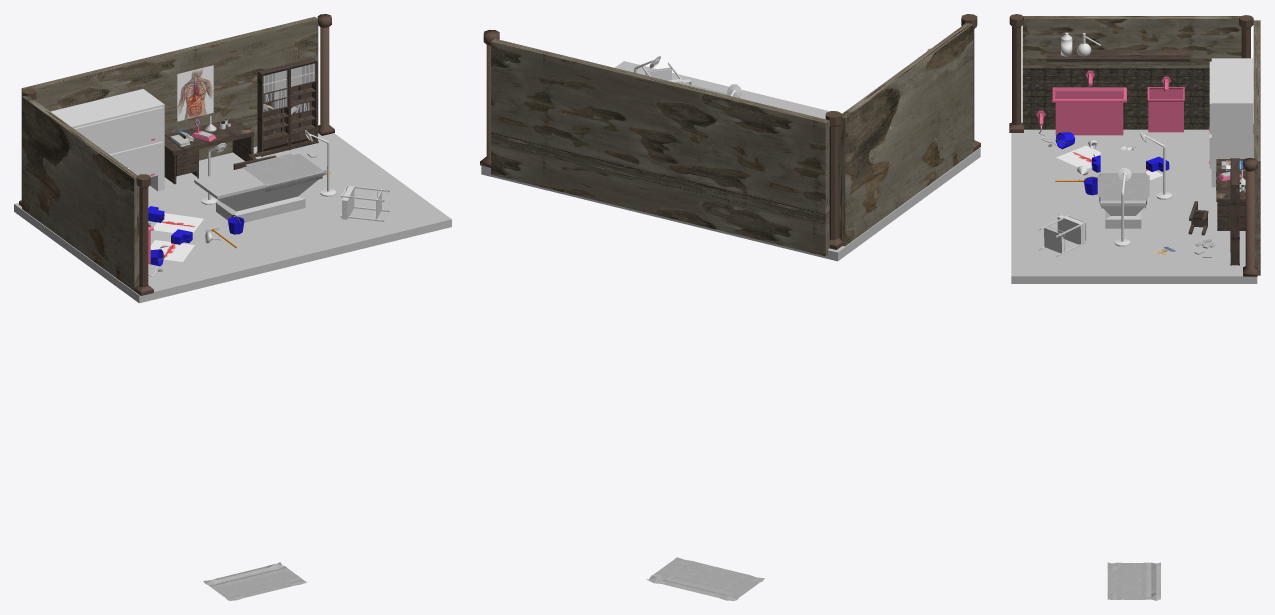
The model's file is Autopsylabfinal.fbx.
3 views of the same model, side by side, from view 1: azimuth 30°, elevation 25°; view 2: azimuth 150°, elevation 25°; view 3: azimuth 270°, elevation 25° (orthographic). The views are drawn at different scales.
Visible parts, largest first — view 1: Floor, Wall.001, Wall.002, Cube, Autopsytable, Desk, Bookcase, Bodycloth, TableCloth, Anatomy_share, Pillar.001, Pillar.003 (+5 smaller); view 2: Wall.002, Wall.001, Floor, Bodycloth, Pillar.002, Pillar.003; view 3: Floor, Wall.001, Cube, Sink.001, Autopsytable, Bodycloth, Wall.002, Sink.002, Shelf, TableCloth, Pillar.003, Pillar.001 (+9 smaller).
Part boxes in pixels (bbox=[...]): Floor: bbox=[14, 133, 451, 303]; Wall.001: bbox=[22, 96, 139, 290]; Wall.002: bbox=[21, 16, 318, 199]; Cube: bbox=[50, 89, 164, 191]; Autopsytable: bbox=[194, 153, 327, 222]; Desk: bbox=[164, 118, 254, 184]; Bookcase: bbox=[258, 58, 317, 156]; Bodycloth: bbox=[203, 562, 306, 600]; TableCloth: bbox=[242, 153, 323, 192]; Anatomy_share: bbox=[177, 65, 213, 121]; Pillar.001: bbox=[134, 174, 153, 295]; Pillar.003: bbox=[317, 14, 334, 135]; Wall.002: bbox=[491, 39, 829, 256]; Wall.001: bbox=[838, 23, 973, 246]; Floor: bbox=[481, 61, 980, 261]; Bodycloth: bbox=[646, 557, 764, 600]; Pillar.002: bbox=[825, 111, 842, 249]; Pillar.003: bbox=[480, 29, 499, 167]; Floor: bbox=[1011, 129, 1257, 283]; Wall.001: bbox=[1022, 16, 1241, 129]; Cube: bbox=[1209, 58, 1253, 187]; Sink.001: bbox=[1052, 87, 1126, 135]; Autopsytable: bbox=[1100, 150, 1145, 228]; Bodycloth: bbox=[1107, 562, 1160, 600]; Wall.002: bbox=[1253, 20, 1260, 275]; Sink.002: bbox=[1147, 87, 1184, 132]; Shelf: bbox=[1046, 50, 1190, 61]; TableCloth: bbox=[1097, 173, 1149, 208]; Pillar.003: bbox=[1243, 158, 1257, 276]; Pillar.001: bbox=[1009, 14, 1023, 132].
Bounding box in the file's own units: 1977 × 2964 × 1396.
